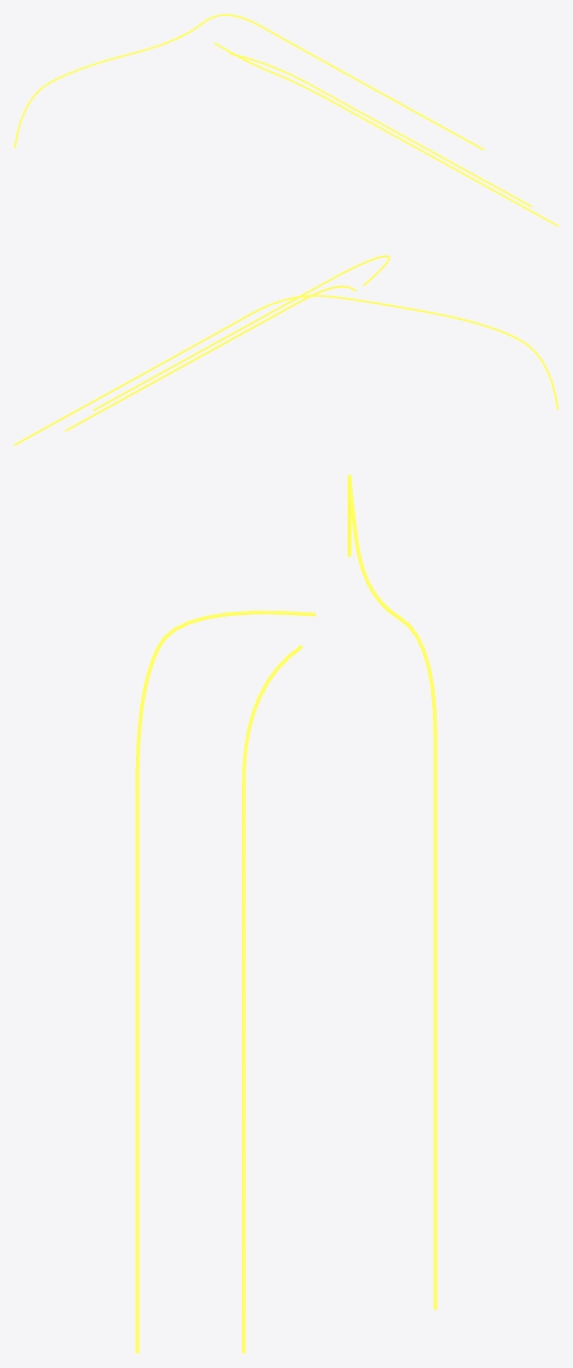
Rendered from AL_Flow meter.fbx.
3 renders of one model, top to bottom at view 1: azimuth 30°, elevation 25°; view 2: azimuth 150°, elevation 25°; view 3: azimuth 270°, elevation 25°, orthographic. The views are drawn at different scales.
Parts seen in each view (by area): view 1: selang.008, selang.006, selang.007; view 2: selang.008, selang.006, selang.007; view 3: selang.008, selang.006, selang.007.
Part boxes in pixels (box(x1,y1,x2,y2)): selang.008: box(14, 14, 484, 150); selang.006: box(214, 42, 558, 226); selang.007: box(229, 53, 532, 207); selang.008: box(14, 295, 558, 445); selang.006: box(93, 255, 389, 410); selang.007: box(65, 285, 356, 431); selang.008: box(347, 474, 437, 1309); selang.006: box(135, 610, 315, 1353); selang.007: box(242, 645, 302, 1353).
Bounding box in the file's own units: 77.88 × 34.46 × 20.69.
